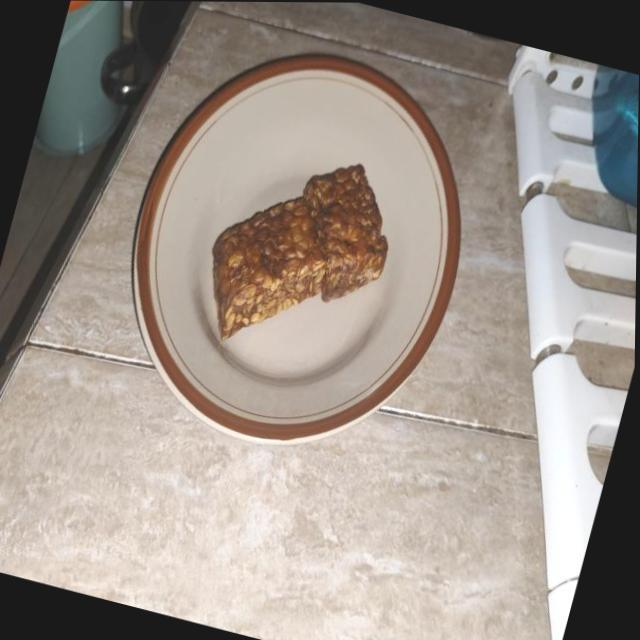tempe_goreng: (212, 196, 326, 339), (304, 164, 387, 302)
